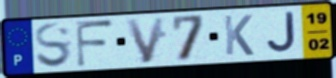7: (171, 14, 208, 63)
F: (73, 19, 116, 69)
J: (264, 10, 298, 55)
K: (222, 14, 256, 57)
S: (32, 21, 74, 70)
V: (123, 15, 168, 65)
